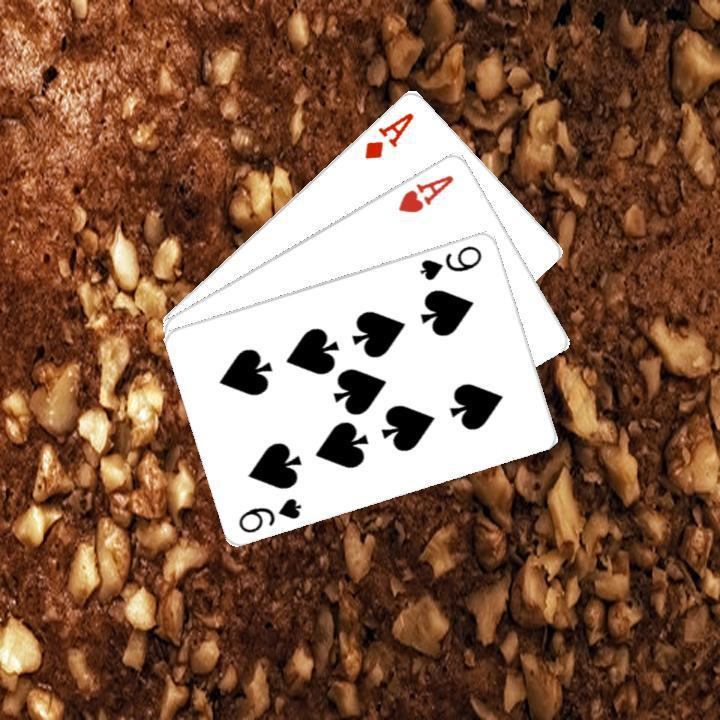9: (415, 240, 485, 282), (234, 493, 304, 535)
A: (360, 107, 417, 161), (393, 169, 456, 215)
